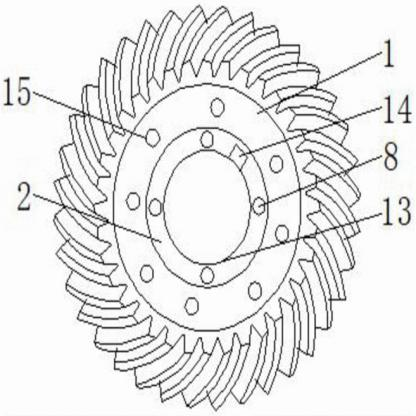FOD: (50, 0, 366, 407)
